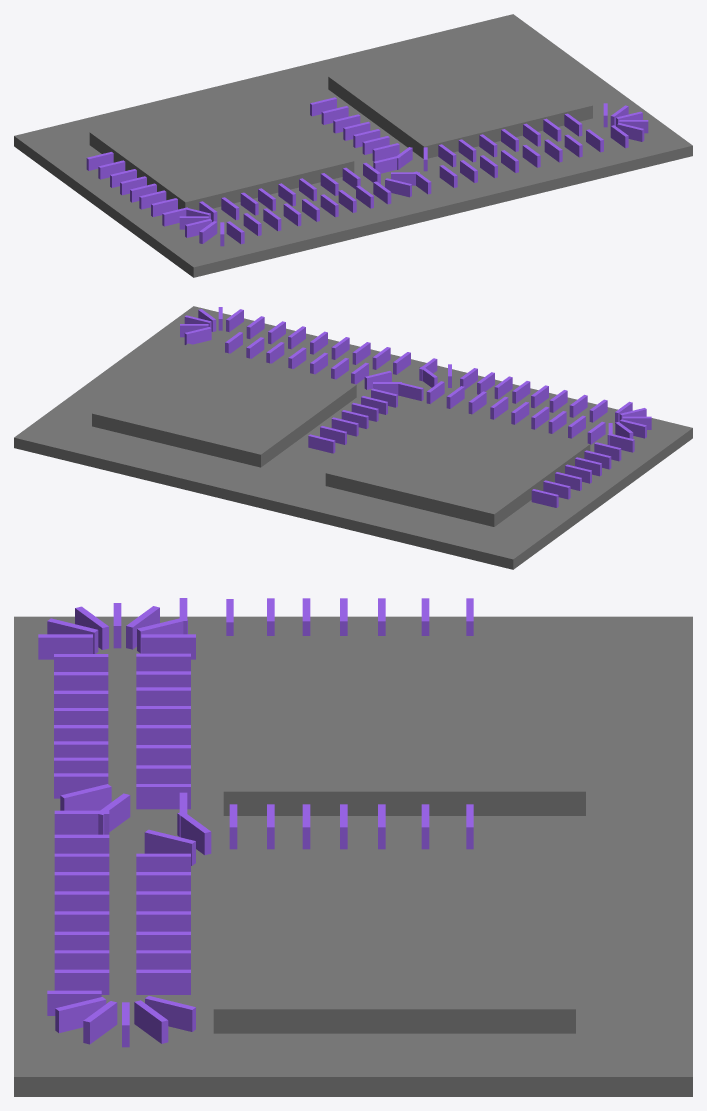
The model's file is BlockModel.fbx.
3 views of the same model, one above another, from view 1: azimuth 30°, elevation 25°; view 2: azimuth 150°, elevation 25°; view 3: azimuth 270°, elevation 25° (orthographic). The views are drawn at different scales.
Parts seen in each view (by area): view 1: Cube_1, Cube__1_, Cube; view 2: Cube_1, Cube__1_, Cube; view 3: Cube_1, Cube__1_, Cube, Checkpoint__53_, Checkpoint__31_, Checkpoint__54_, Checkpoint__56_, Checkpoint__40_, Checkpoint__50_, Checkpoint__49_, Checkpoint__21_, Checkpoint__22_ (+34 smaller).
Part boxes in pixels (<box>): Cube_1: <box>14,14,692,277</box>; Cube__1_: <box>328,35,592,158</box>; Cube: <box>89,91,354,210</box>; Cube_1: <box>14,306,692,569</box>; Cube__1_: <box>92,343,356,467</box>; Cube: <box>325,403,590,526</box>; Cube_1: <box>14,616,692,1096</box>; Cube__1_: <box>213,853,575,1033</box>; Cube: <box>223,636,585,815</box>; Checkpoint__53_: <box>136,969,190,994</box>; Checkpoint__31_: <box>136,784,190,809</box>; Checkpoint__54_: <box>54,969,109,994</box>; Checkpoint__56_: <box>54,810,109,834</box>; Checkpoint__40_: <box>38,634,92,659</box>; Checkpoint__50_: <box>54,911,109,931</box>; Checkpoint__49_: <box>54,891,109,911</box>; Checkpoint__21_: <box>136,891,190,911</box>; Checkpoint__22_: <box>136,911,190,931</box>.
Size of the model in its own units: 858 by 44.99 by 535.
